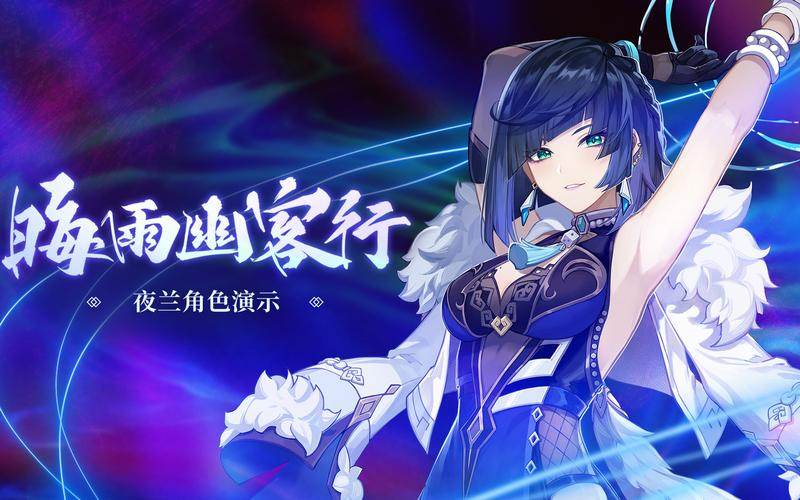夜兰: (420, 1, 800, 500)
